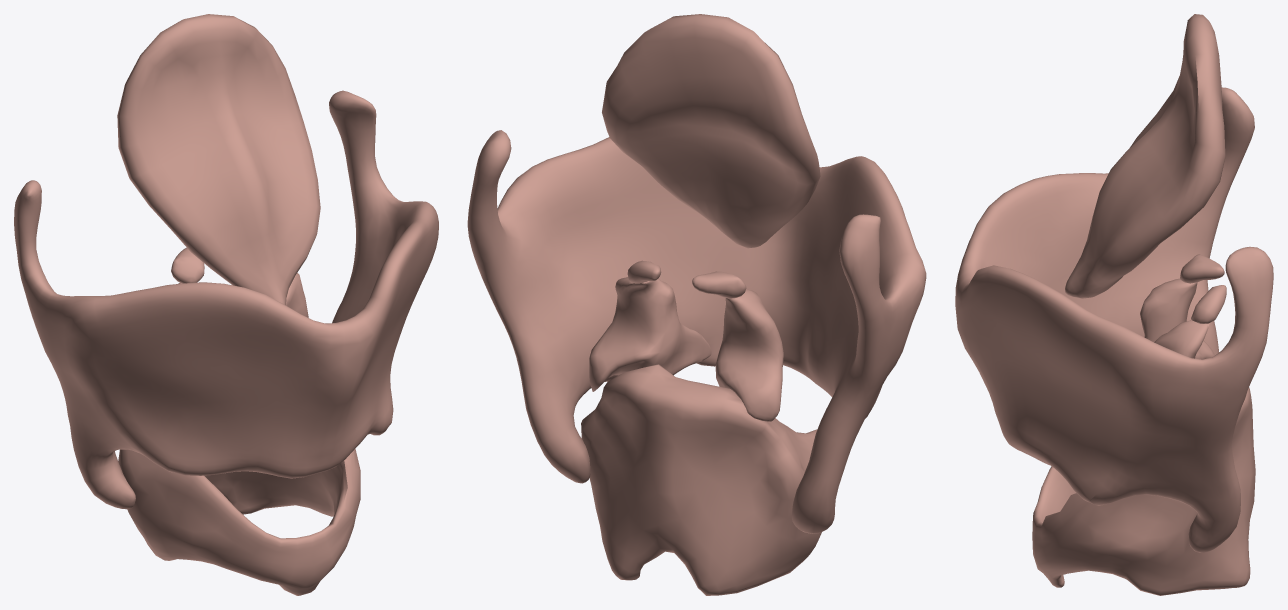
The model's file is explorar-larynx.glb.
3 renders of one model, left to right at view 1: azimuth 30°, elevation 25°; view 2: azimuth 150°, elevation 25°; view 3: azimuth 270°, elevation 25°, orthographic. The views are drawn at different scales.
Parts seen in each view (by area): view 1: larynx__tiroides, larynx__epiglotico, larynx__cricoides, larynx__corniculado_derecho, larynx__aritenoides_izquierdo; view 2: larynx__tiroides, larynx__cricoides, larynx__epiglotico, larynx__aritenoides_izquierdo, larynx__aritenoides_derecho, larynx__corniculado_derecho, larynx__corniculado_izquierdo; view 3: larynx__tiroides, larynx__epiglotico, larynx__cricoides, larynx__aritenoides_derecho, larynx__aritenoides_izquierdo, larynx__corniculado_derecho, larynx__corniculado_izquierdo.
Part boxes in pixels (<box>): larynx__tiroides: <box>14,90,438,509</box>; larynx__epiglotico: <box>117,14,320,305</box>; larynx__cricoides: <box>118,448,360,595</box>; larynx__corniculado_derecho: <box>171,247,204,283</box>; larynx__aritenoides_izquierdo: <box>286,273,308,317</box>; larynx__tiroides: <box>467,130,926,533</box>; larynx__cricoides: <box>581,364,821,595</box>; larynx__epiglotico: <box>602,14,820,248</box>; larynx__aritenoides_izquierdo: <box>589,277,711,391</box>; larynx__aritenoides_derecho: <box>715,289,783,421</box>; larynx__corniculado_derecho: <box>692,271,746,298</box>; larynx__corniculado_izquierdo: <box>627,260,661,283</box>; larynx__tiroides: <box>955,87,1273,552</box>; larynx__epiglotico: <box>1065,14,1225,298</box>; larynx__cricoides: <box>1032,387,1255,595</box>; larynx__aritenoides_derecho: <box>1140,278,1214,359</box>; larynx__aritenoides_izquierdo: <box>1154,320,1209,358</box>; larynx__corniculado_derecho: <box>1180,254,1224,283</box>; larynx__corniculado_izquierdo: <box>1191,285,1226,323</box>.
Bounding box in the file's own units: 0.0538 × 0.0726 × 0.0386.
